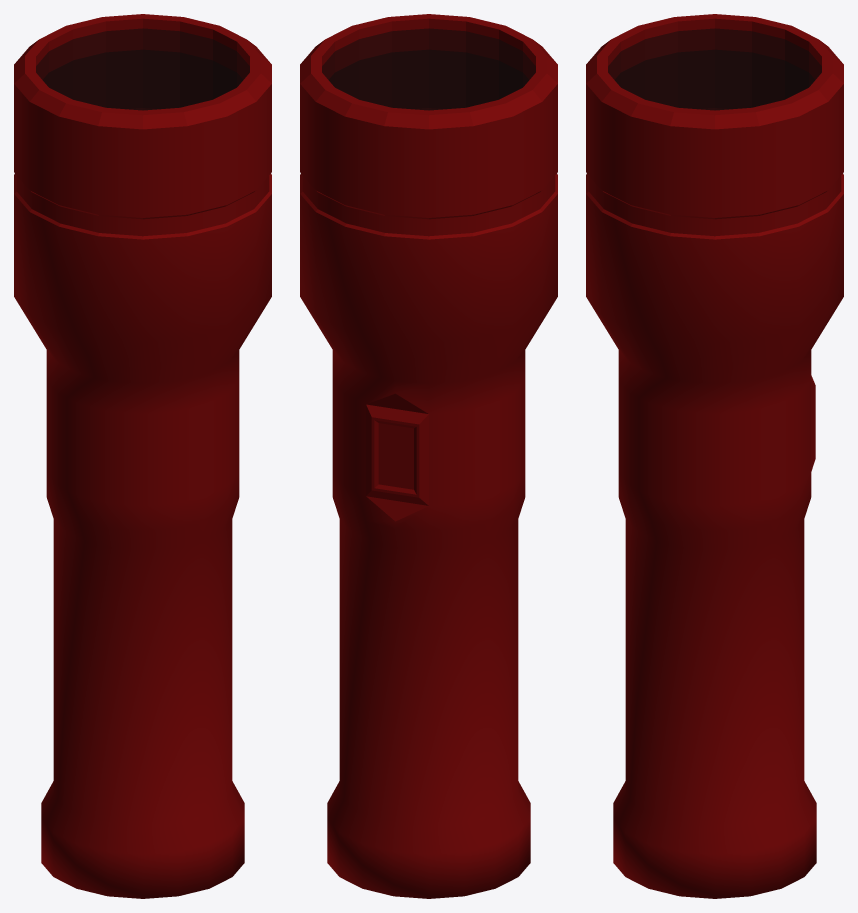
Rendered from torche.fbx.
3 views of the same model, side by side, from view 1: azimuth 30°, elevation 25°; view 2: azimuth 150°, elevation 25°; view 3: azimuth 270°, elevation 25° (orthographic).
Parts seen in each view (by area): view 1: Cylinder002; view 2: Cylinder002; view 3: Cylinder002.
Boxes of the visible parts, box(x1,y1,x2,y2) form: Cylinder002: box(14, 14, 271, 898); Cylinder002: box(300, 14, 557, 898); Cylinder002: box(586, 14, 843, 898).
Size of the model in its own units: 21.17 by 70.92 by 20.84.
